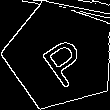P_NW: (29, 24, 91, 87)
